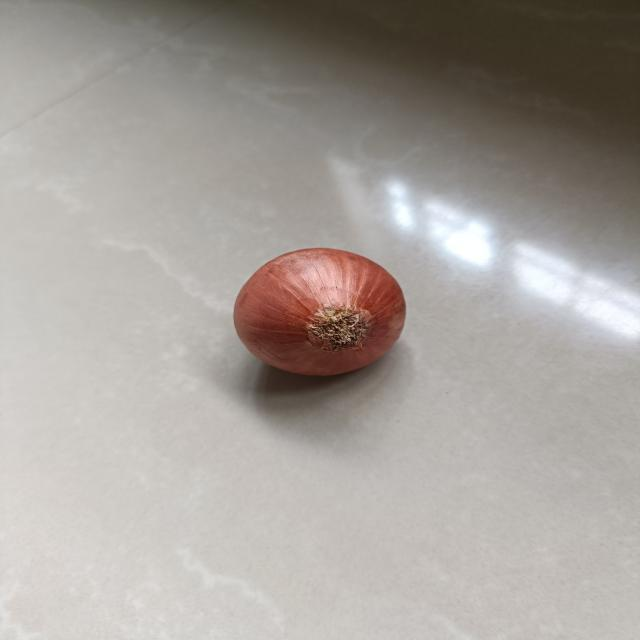onion: (227, 242, 412, 382)
